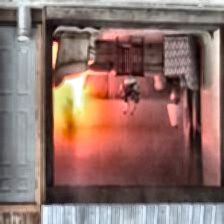fire: (55, 93, 92, 138)
